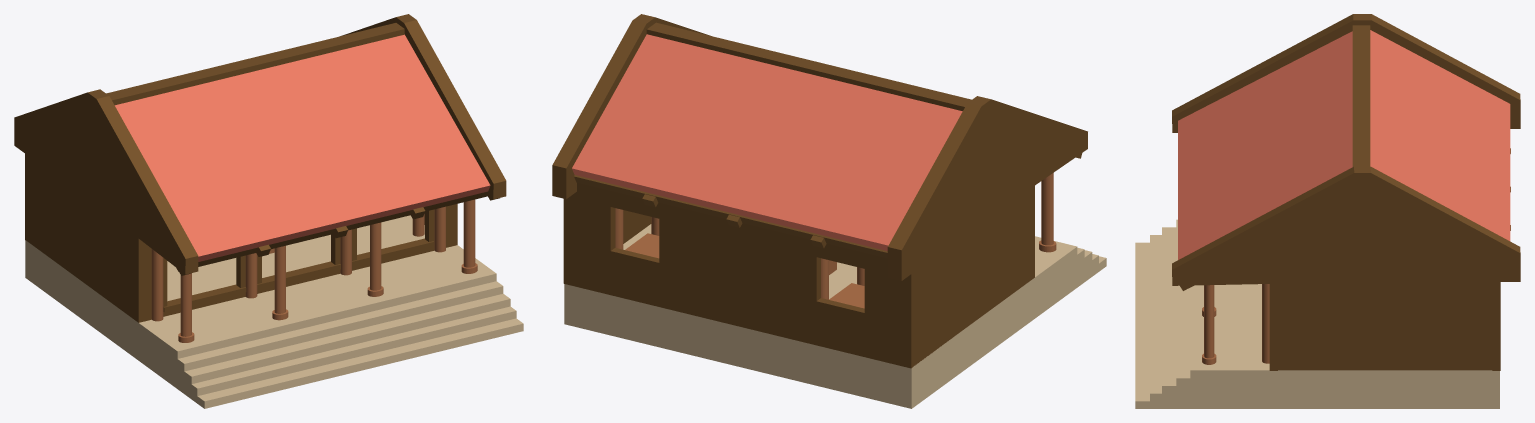
The model's file is RoughHouse.fbx.
3 views of the same model, side by side, from view 1: azimuth 30°, elevation 25°; view 2: azimuth 150°, elevation 25°; view 3: azimuth 270°, elevation 25° (orthographic). The views are drawn at different scales.
Parts seen in each view (by area): view 1: Cube.018, Cube.004, Cube.016, Cube, Cube.007, Cube.006, Cube.005, Cube.008, Cube.017, Cube.001, Cube.015, Cube.022 (+10 smaller); view 2: Cube.014, Cube.002, Cube.004, Cube.016, Cube, Cube.017, Cube.015, Cube.005, Cube.020, Cube.008, Cylinder.016, Cube.003 (+2 smaller); view 3: Cube.015, Cube.018, Cube.014, Cube.003, Cube.004, Cube.005, Cube.016, Cube.006, Cube.017, Cube.008, Cube.007, Cylinder.014 (+3 smaller).
Part boxes in pixels (left/top/right/bottom): Cube.018: left=115, top=34, right=490, bottom=261; Cube.004: left=25, top=215, right=496, bottom=381; Cube.016: left=14, top=89, right=198, bottom=274; Cube: left=25, top=154, right=143, bottom=322; Cube.007: left=45, top=277, right=516, bottom=402; Cube.006: left=39, top=266, right=510, bottom=398; Cube.005: left=32, top=253, right=503, bottom=392; Cube.008: left=52, top=290, right=523, bottom=408; Cube.017: left=106, top=23, right=404, bottom=105; Cube.001: left=134, top=205, right=453, bottom=321; Cube.015: left=340, top=14, right=506, bottom=199; Cube.022: left=163, top=238, right=434, bottom=312; Cube.014: left=572, top=34, right=962, bottom=250; Cube.002: left=563, top=183, right=911, bottom=368; Cube.004: left=564, top=224, right=1077, bottom=408; Cube.016: left=887, top=96, right=1087, bottom=280; Cube: left=911, top=186, right=1034, bottom=367; Cube.017: left=646, top=22, right=971, bottom=111; Cube.015: left=552, top=14, right=710, bottom=199; Cube.005: left=919, top=247, right=1084, bottom=403; Cube.020: left=574, top=175, right=887, bottom=258; Cube.008: left=941, top=256, right=1106, bottom=386; Cylinder.016: left=1039, top=173, right=1056, bottom=252; Cube.003: left=623, top=210, right=651, bottom=243; Cube.015: left=1172, top=166, right=1520, bottom=285; Cube.018: left=1178, top=31, right=1352, bottom=259; Cube.014: left=1370, top=30, right=1510, bottom=240; Cube.003: left=1278, top=282, right=1492, bottom=370; Cube.004: left=1190, top=284, right=1499, bottom=408; Cube.005: left=1176, top=219, right=1485, bottom=408; Cube.016: left=1172, top=14, right=1520, bottom=132; Cube.006: left=1162, top=227, right=1471, bottom=408; Cube.017: left=1352, top=25, right=1370, bottom=166; Cube.008: left=1135, top=242, right=1169, bottom=408; Cube.007: left=1150, top=235, right=1459, bottom=408; Cylinder.014: left=1202, top=285, right=1216, bottom=364.
Bounding box in the file's own units: 906 × 887 × 614.
